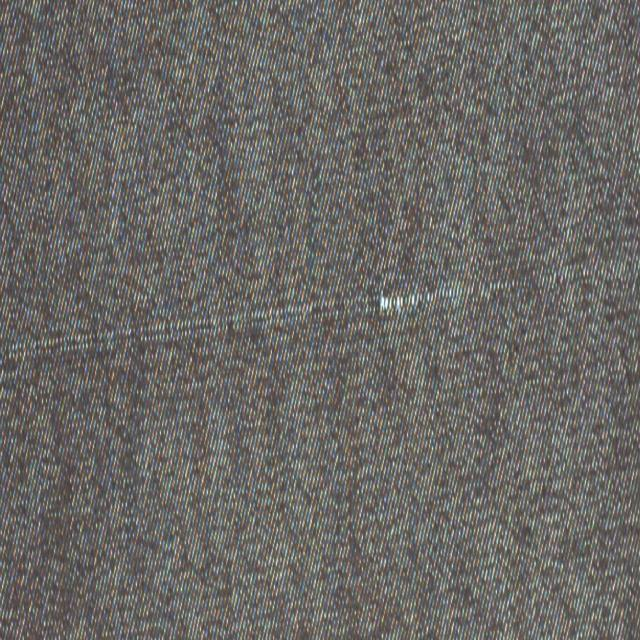Line: (0, 265, 583, 367)
